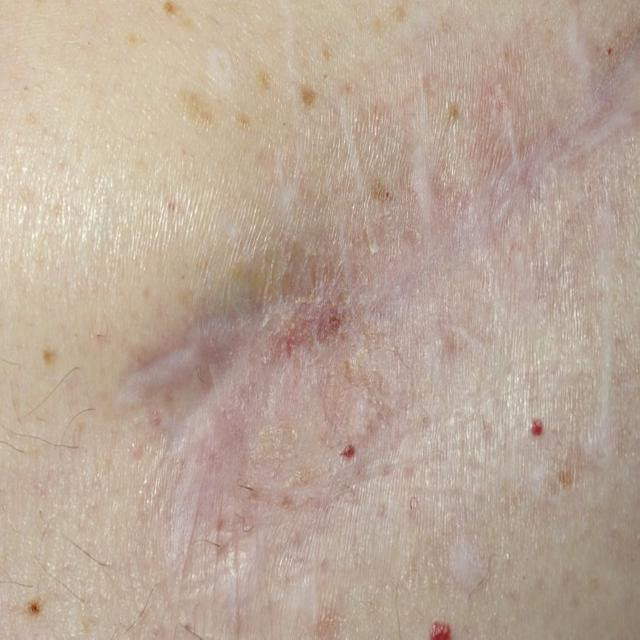wound: (110, 152, 512, 510)
